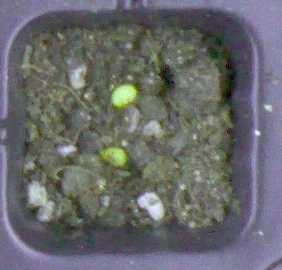chilli seed: (110, 84, 136, 107), (98, 147, 127, 167)
